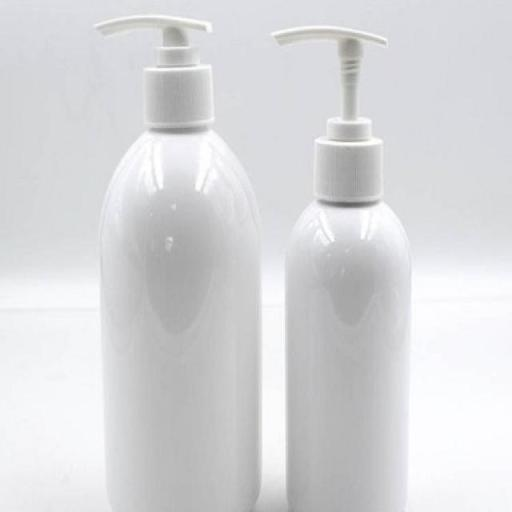plastic: (89, 8, 267, 512), (272, 25, 417, 512)
